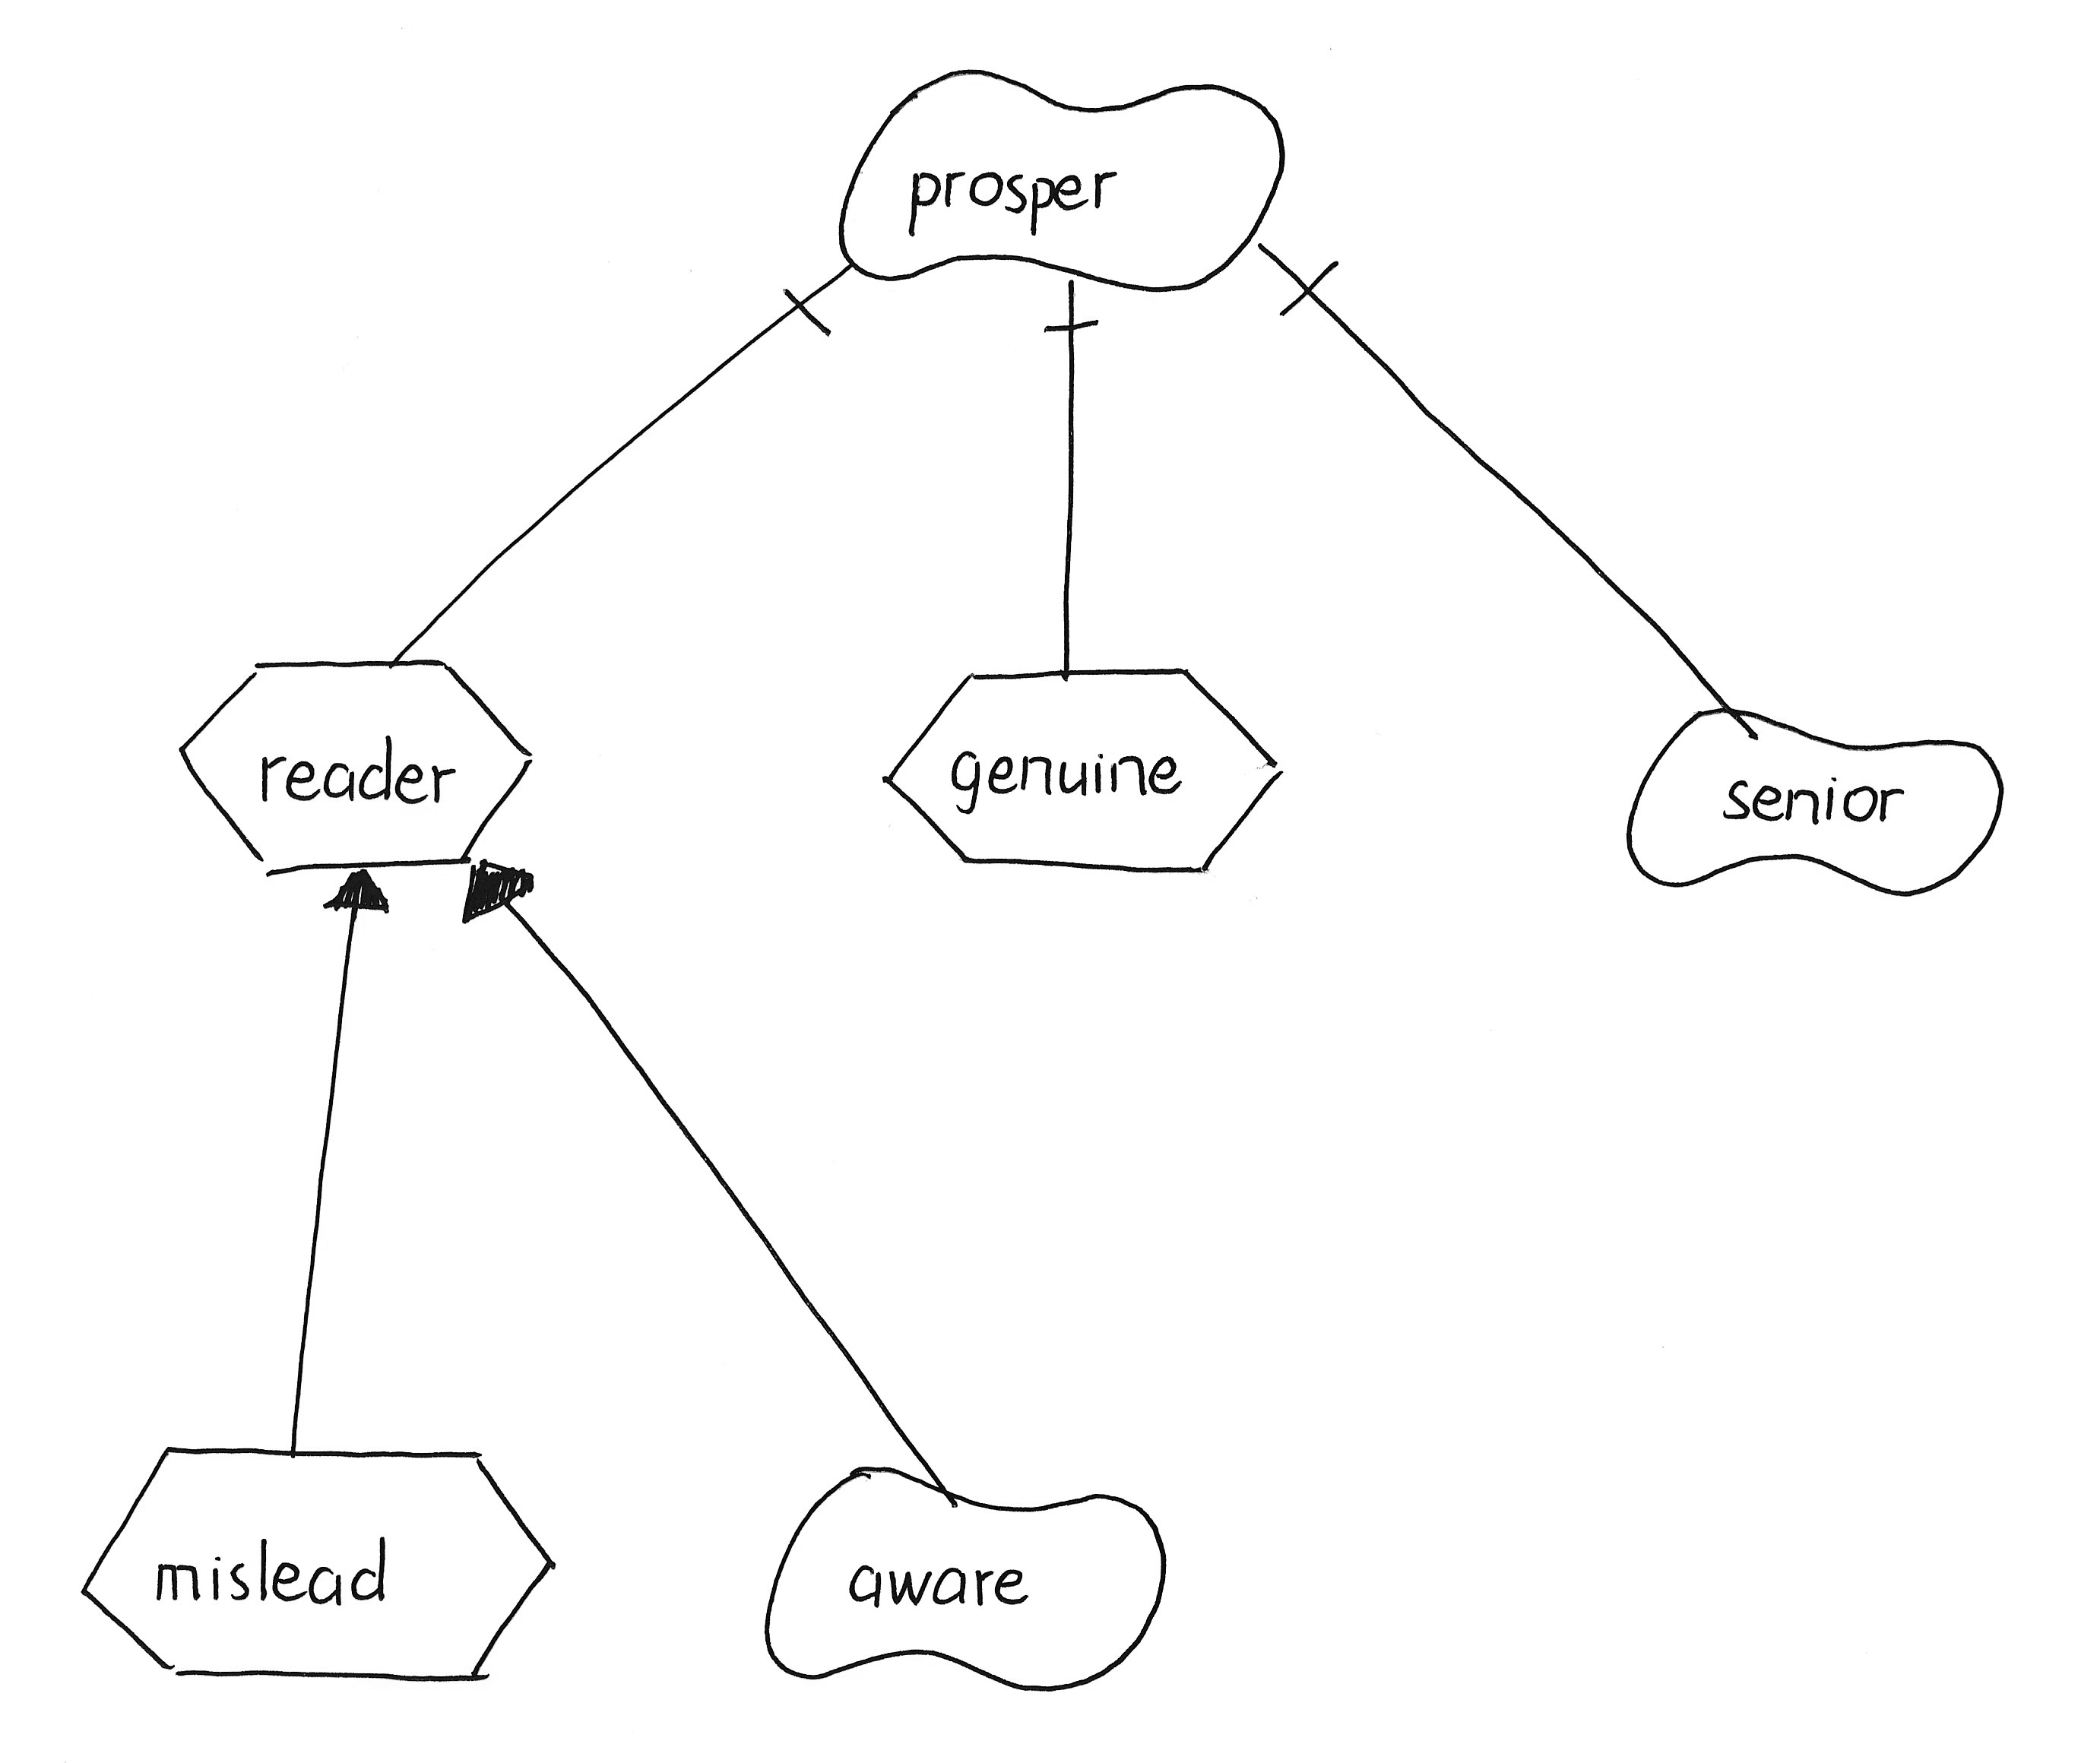and: (1254, 247, 1366, 336), (766, 255, 860, 360), (1030, 278, 1117, 360)
or: (446, 852, 556, 934), (313, 859, 404, 930)
quality: (824, 44, 1297, 304), (745, 1446, 1180, 1707), (1612, 694, 2018, 913)
task: (65, 1432, 565, 1709), (869, 652, 1301, 888), (161, 645, 546, 888)
